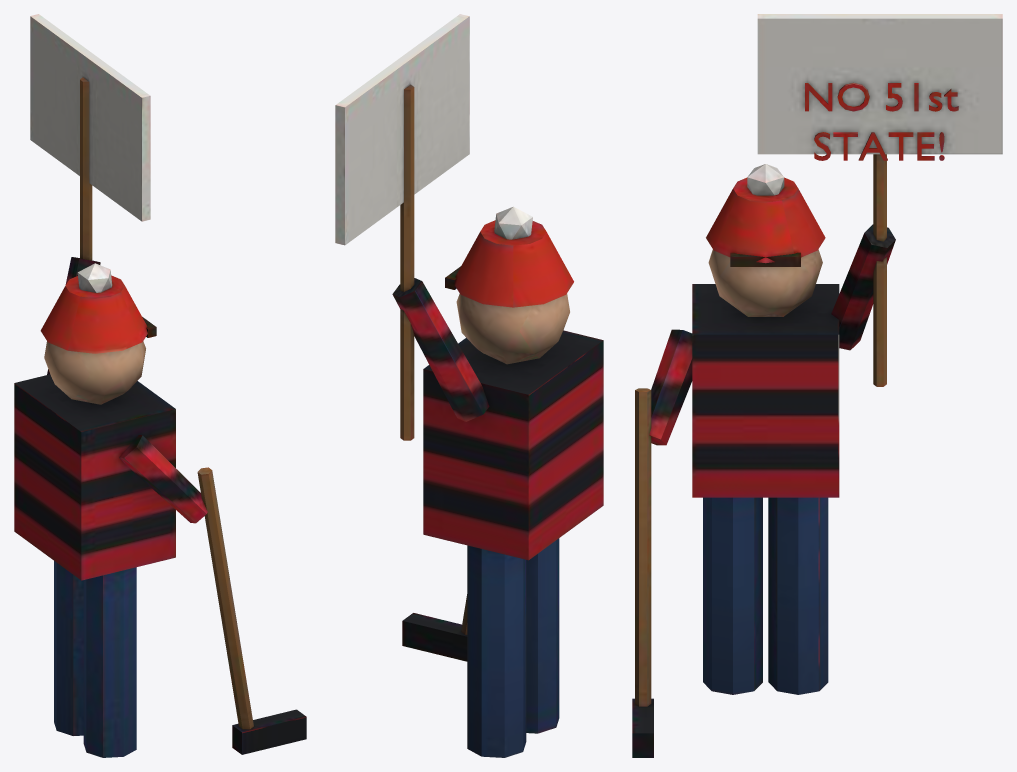
File: canadiense.glb
3 renders of one model, left to right at view 1: azimuth 30°, elevation 25°; view 2: azimuth 150°, elevation 25°; view 3: azimuth 270°, elevation 25°, orthographic. The views are drawn at different scales.
Visible parts, largest first — view 1: canadiense; view 2: canadiense; view 3: canadiense.
Boxes of the visible parts, bbox=[...] form: canadiense: bbox=[14, 14, 306, 757]; canadiense: bbox=[335, 14, 603, 757]; canadiense: bbox=[632, 14, 1002, 757].
Bounding box in the file's own units: 0.92 × 2.8 × 1.36.
Materials: 1 (1 with a texture image).
